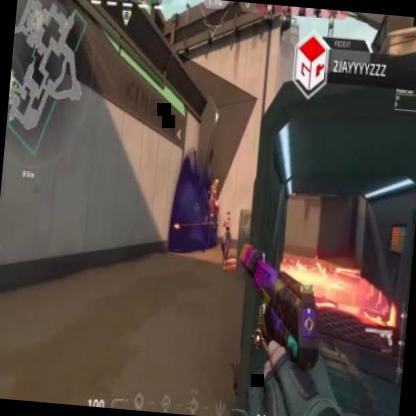enemy: (205, 176, 221, 230), (219, 210, 234, 264)
enemy_head: (214, 178, 218, 188), (226, 212, 230, 220)
